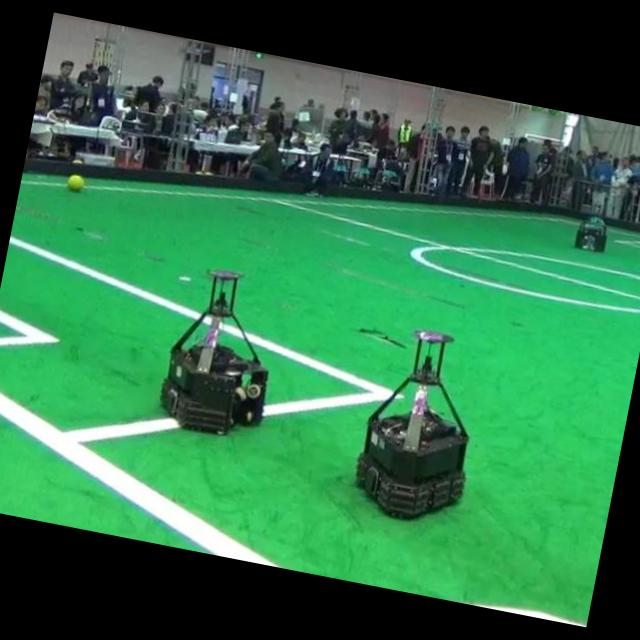ball: (66, 174, 84, 191)
robot: (356, 330, 467, 517), (160, 270, 267, 434), (577, 216, 607, 253)
